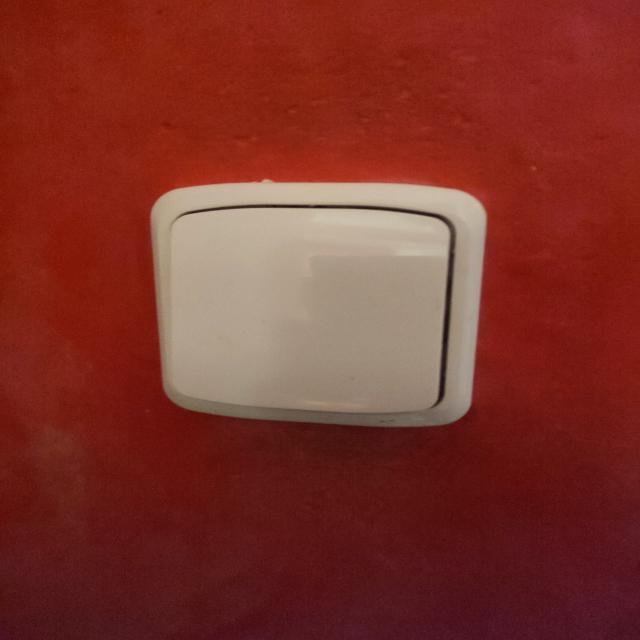house switch: (150, 182, 484, 426)
